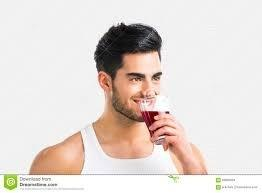Drinking: (98, 50, 178, 144)
